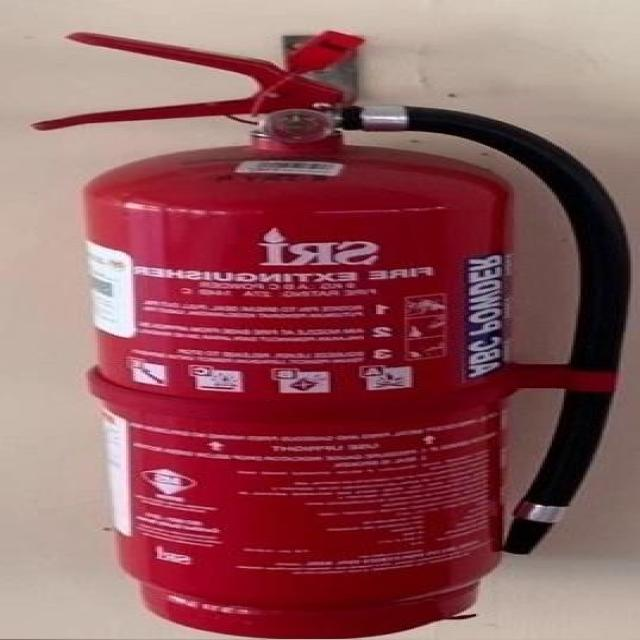fire_extinguisher: (26, 26, 638, 639)
